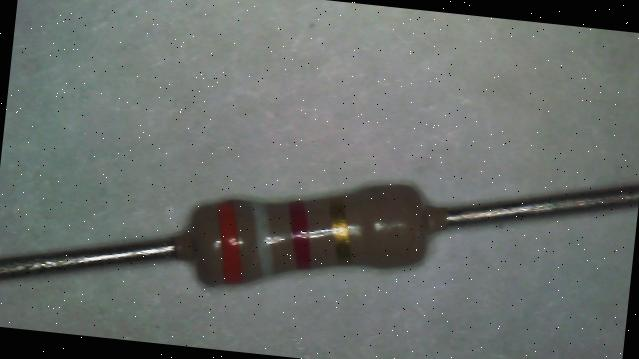gold: (325, 198, 357, 265)
orange: (210, 200, 250, 284)
red: (282, 200, 317, 270)
resistor: (170, 168, 456, 302)
white: (242, 202, 281, 280)
